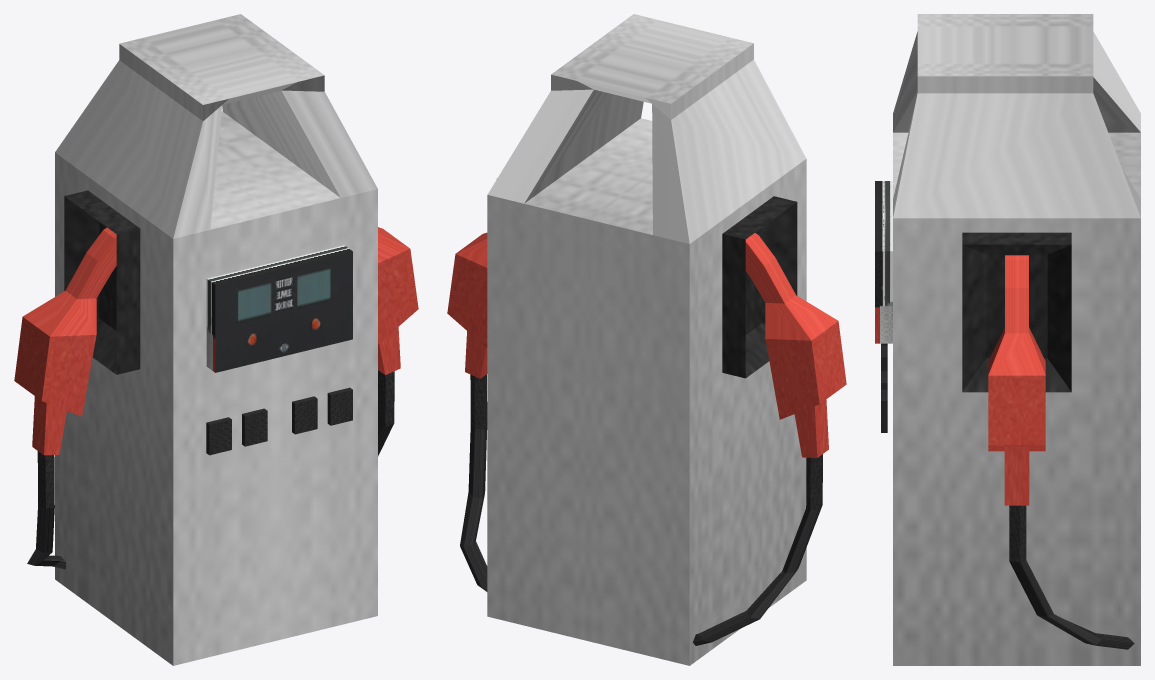
Rendered from GasPump.fbx.
The picture shows the model from 3 angles, left to right: view 1: azimuth 30°, elevation 25°; view 2: azimuth 150°, elevation 25°; view 3: azimuth 270°, elevation 25°; orthographic projection. The views are drawn at different scales.
Visible parts, largest first — view 1: Cube; view 2: Cube; view 3: Cube.
Boxes of the visible parts, x1,y1,x2,y2 form: Cube: [14, 14, 418, 665]; Cube: [447, 14, 846, 665]; Cube: [875, 14, 1140, 665].
Bounding box in the file's own units: 368 × 506 × 215.
Materials: 1 (1 with a texture image).
